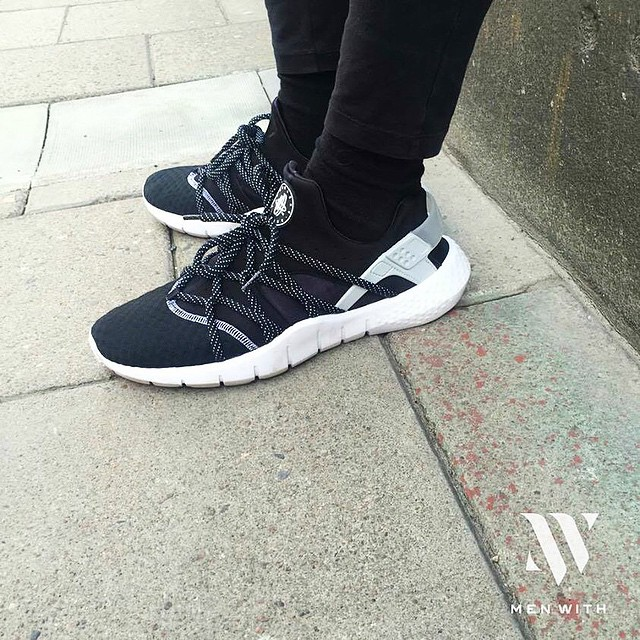sneaker: (72, 142, 489, 407), (129, 92, 329, 251)
